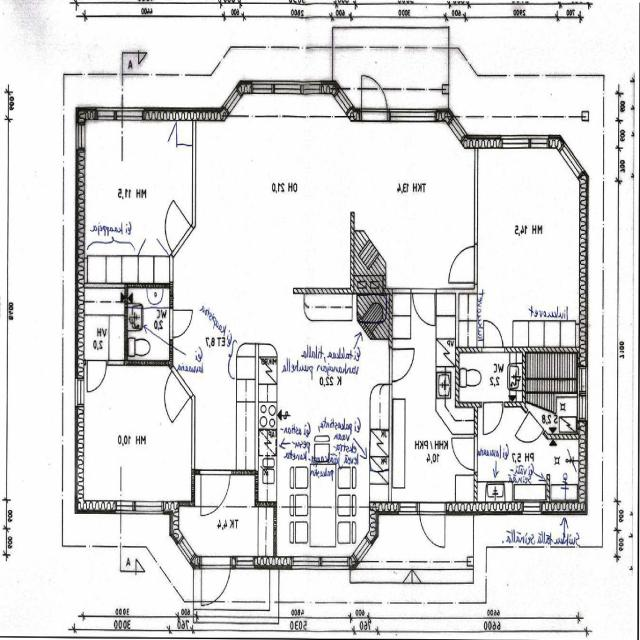door: (153, 368, 193, 423), (154, 200, 193, 256), (201, 556, 230, 609), (201, 469, 230, 516), (362, 71, 388, 121), (515, 411, 544, 453), (420, 502, 445, 550), (448, 246, 478, 283), (452, 438, 478, 470), (389, 349, 415, 381), (413, 289, 435, 325), (484, 401, 504, 435), (484, 320, 503, 353), (87, 360, 106, 392), (170, 310, 192, 337)
